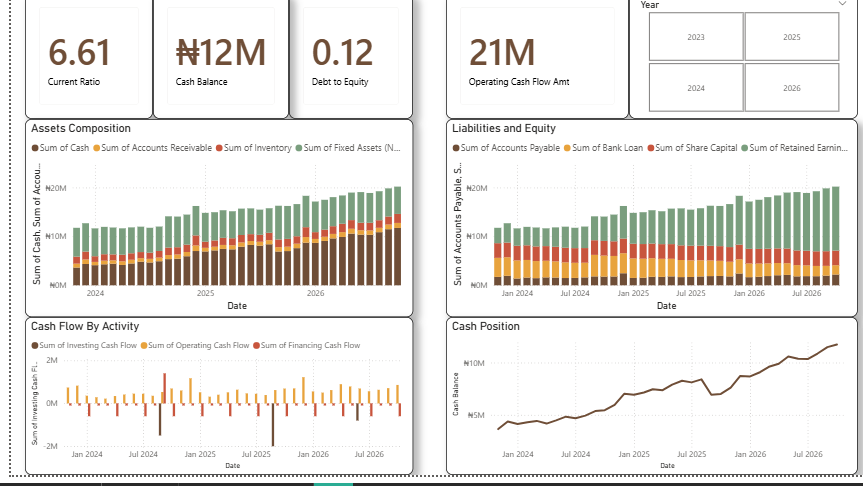

This screenshot's page, from the dashboard's own definition file:
{"tool":"powerbi","page":{"name":"Financial Position","canvas":[1280,720],"ordinal":1},"visuals":[{"type":"cardVisual","fields":{"Data":["Balance_Sheet.Current Ratio"]},"box":[20.9,0,191.2,188.2],"z":0},{"type":"cardVisual","fields":{"Data":["Balance_Sheet.Debt to Equity"]},"box":[415.3,0,185.2,188.2],"z":1000},{"type":"cardVisual","fields":{"Data":["Balance_Sheet.Cash Balance"]},"box":[212.1,0,203.2,188.2],"z":2000},{"type":"cardVisual","fields":{"Data":["Balance_Sheet.Operating Cash Flow Amt"]},"box":[649.8,0,273.4,188.2],"z":3000},{"type":"columnChart","title":"Assets Composition","fields":{"Category":["DimMonth.Date"],"Y":["Sum(Balance_Sheet.Cash)","Sum(Balance_Sheet.Accounts Receivable)","Sum(Balance_Sheet.Inventory)","Sum(Balance_Sheet.Fixed Assets (Net))"]},"box":[20.9,188.2,579.6,295.8],"z":4000},{"type":"columnChart","title":"Liabilities and Equity","fields":{"Category":["DimMonth.Date"],"Y":["Sum(Balance_Sheet.Accounts Payable)","Sum(Balance_Sheet.Bank Loan)","Sum(Balance_Sheet.Share Capital)","Sum(Balance_Sheet.Retained Earnings)"]},"box":[649.8,188.2,615.4,295.8],"z":5000},{"type":"clusteredColumnChart","title":"Cash Flow By Activity","fields":{"Category":["DimMonth.Date"],"Y":["Sum(Cash_Flow.Investing Cash Flow)","Sum(Cash_Flow.Operating Cash Flow)","Sum(Cash_Flow.Financing Cash Flow)"]},"box":[20.9,484,579.6,236],"z":6000},{"type":"lineChart","title":"Cash Position","fields":{"Category":["DimMonth.Date"],"Y":["Balance_Sheet.Cash Balance"]},"box":[650,484,615,236],"z":7000},{"type":"slicer","fields":{"Values":["DimMonth.Year"]},"box":[923.2,0,342.1,188.2],"z":8000}]}

Visuals, with their boxes in screenshot pixels (x1, y1, x2, y2), scaled from the page's 1280x720 canvas onto the 863x486 screenshot:
cardVisual - Balance_Sheet.Current Ratio: 14 0 143 127
cardVisual - Balance_Sheet.Debt to Equity: 280 0 405 127
cardVisual - Balance_Sheet.Cash Balance: 143 0 280 127
cardVisual - Balance_Sheet.Operating Cash Flow Amt: 438 0 622 127
"Assets Composition" columnChart: 14 127 405 327
"Liabilities and Equity" columnChart: 438 127 853 327
"Cash Flow By Activity" clusteredColumnChart: 14 327 405 485
"Cash Position" lineChart: 438 327 853 485
slicer - DimMonth.Year: 622 0 853 127
